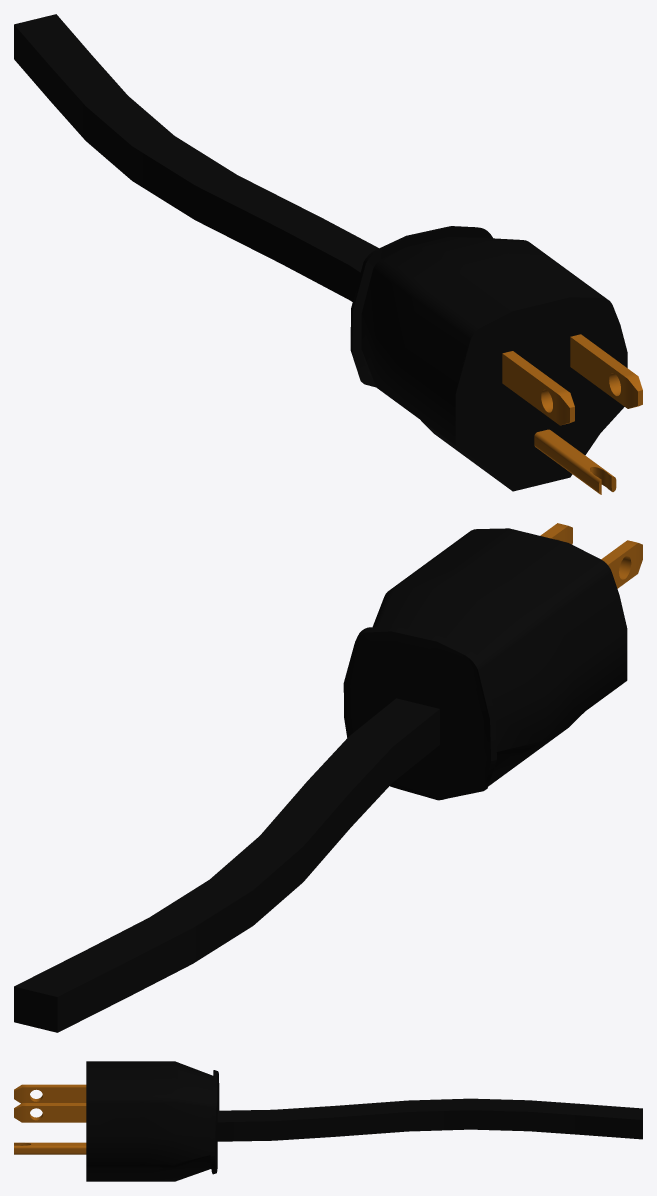
The model's file is Plug3DModel.fbx.
3 renders of one model, top to bottom at view 1: azimuth 30°, elevation 25°; view 2: azimuth 150°, elevation 25°; view 3: azimuth 270°, elevation 25°, orthographic. The views are drawn at different scales.
Visible parts, largest first — view 1: pCube6; view 2: pCube6; view 3: pCube6.
Part boxes in pixels (left/top/right/bottom): pCube6: left=14, top=14, right=642, bottom=494; pCube6: left=14, top=523, right=642, bottom=1032; pCube6: left=14, top=1061, right=642, bottom=1181.
Size of the model in its own units: 1.25 by 1.25 by 7.07.
